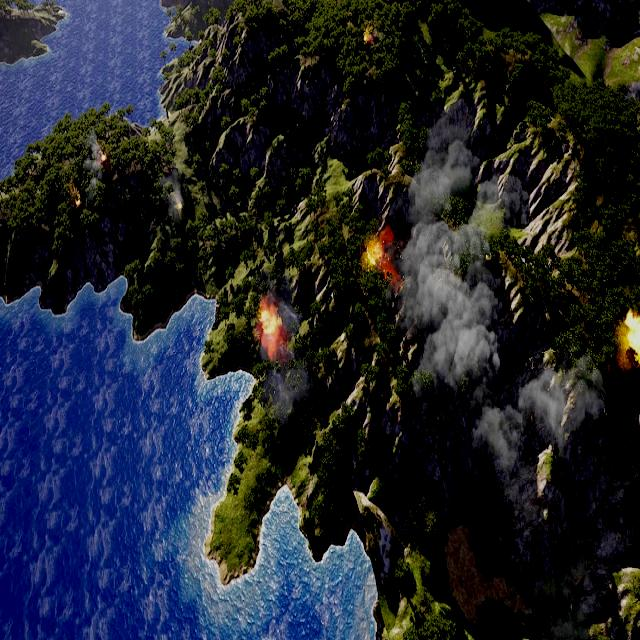fire: (360, 225, 393, 273), (258, 298, 282, 340), (626, 312, 640, 358), (72, 189, 82, 211), (100, 150, 108, 164), (364, 32, 372, 44)
smoke: (398, 118, 604, 492), (258, 273, 321, 431), (160, 167, 186, 222), (86, 135, 102, 201)
